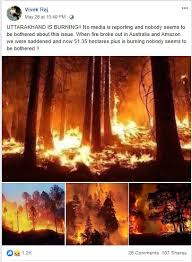fire: (71, 192, 127, 238), (4, 196, 55, 235), (42, 131, 95, 163), (111, 107, 145, 148), (133, 213, 186, 235)
